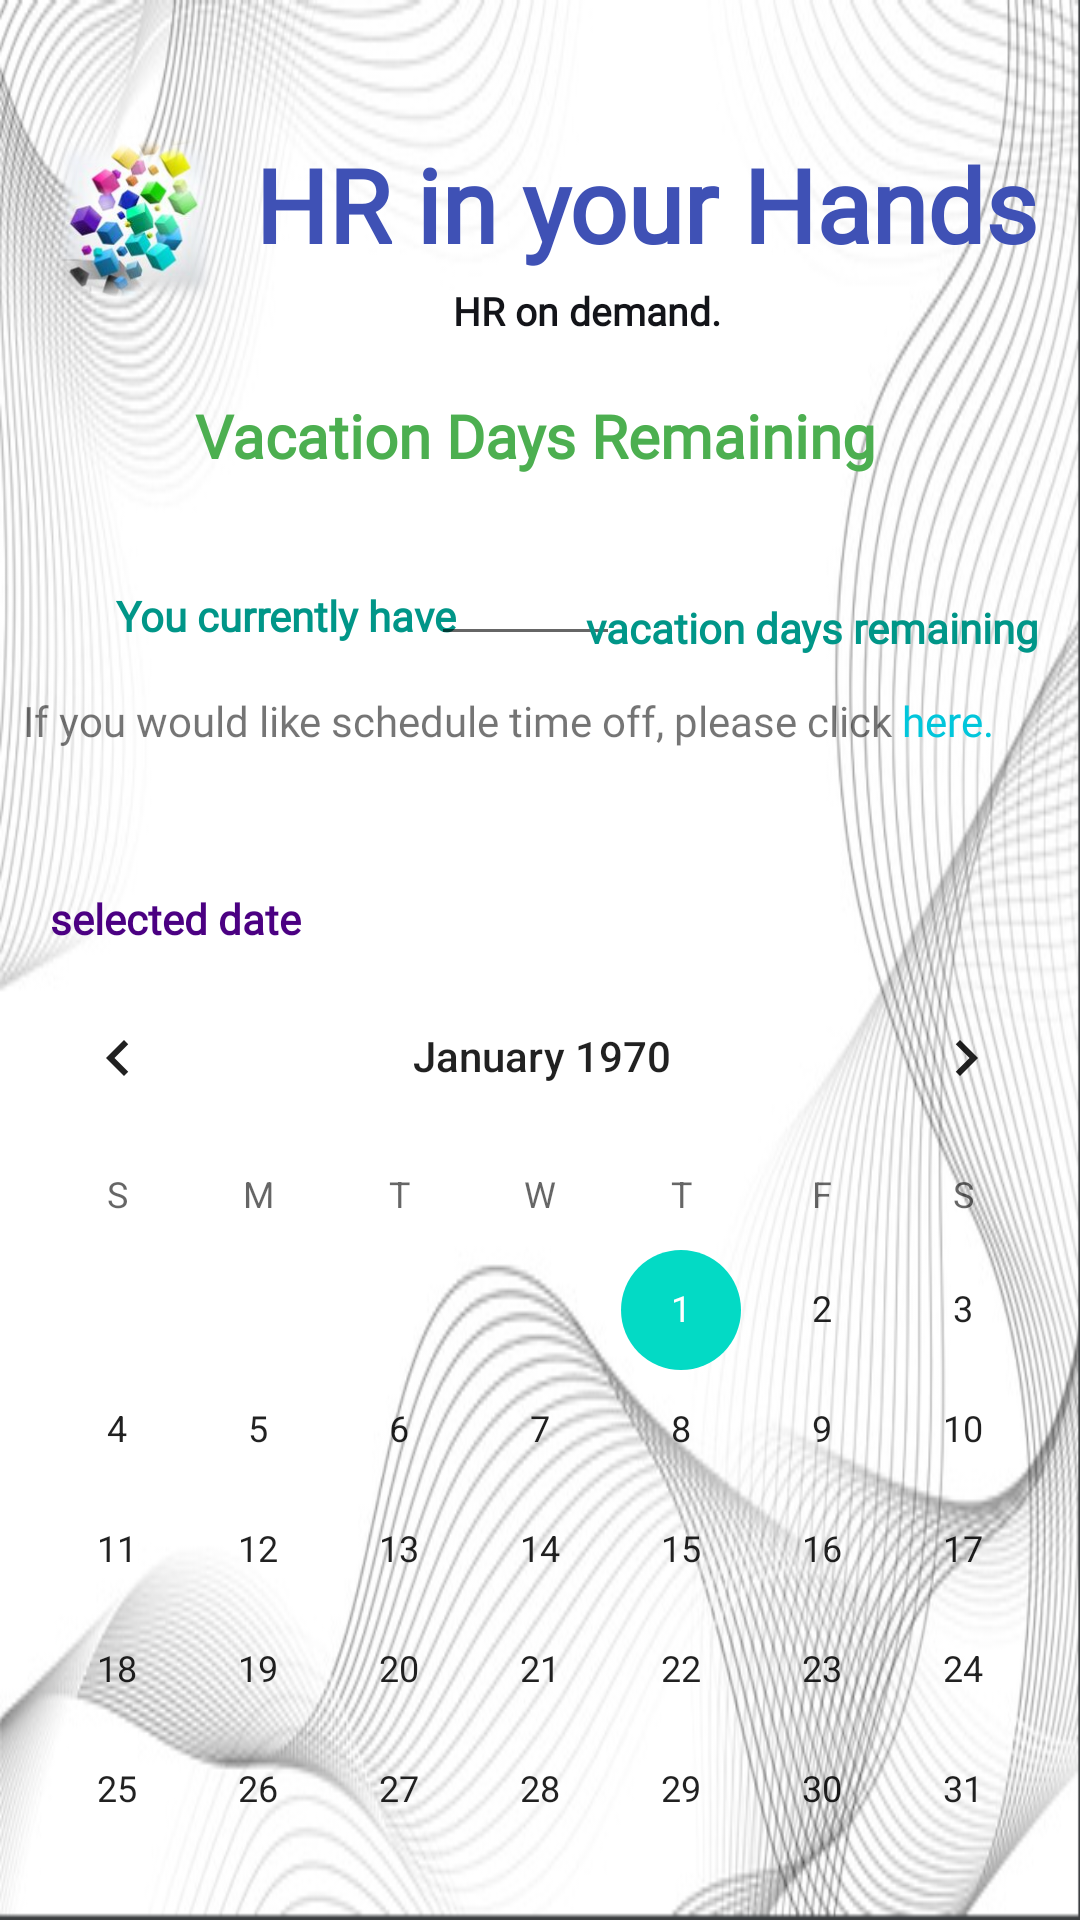

Point at icon controls on the screen. Image size 1080 x 1920, points as [x,y].
blocks: [134,220]
